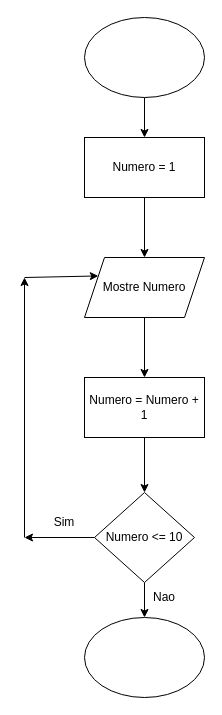
The diagram is 222 pixels wide and 715 high, and some of its shapes have lost their labels. The shapes that lost their labels are listed below. From the top down, each one's centre as x and y in pixels, then its label:
At [144,57]: "Inicio".
At [144,657]: "Fim".
